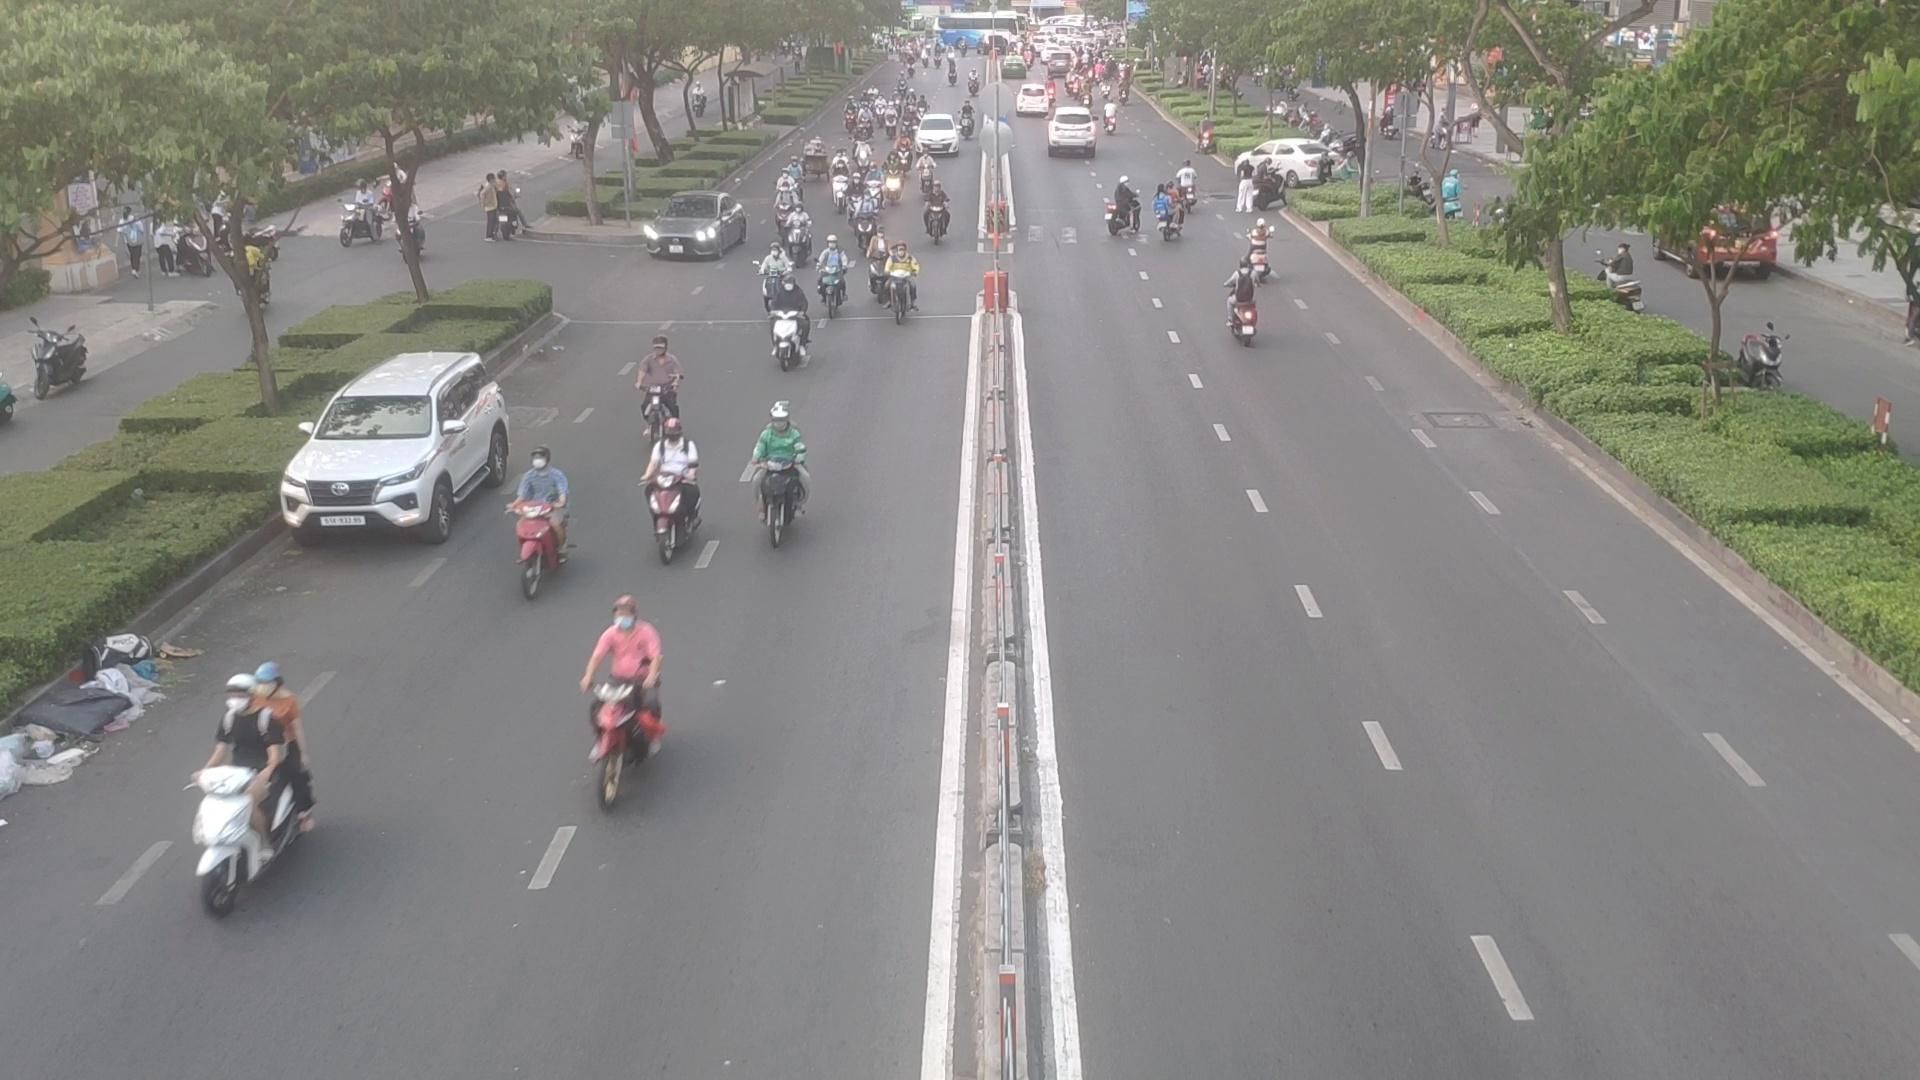car: (281, 353, 516, 545), (638, 193, 749, 262), (1226, 140, 1360, 196), (1044, 107, 1095, 156), (916, 115, 967, 157)
motorbike: (171, 665, 307, 916), (574, 603, 674, 837), (752, 400, 818, 539), (647, 419, 713, 558), (510, 450, 564, 582), (640, 328, 692, 458), (1222, 258, 1261, 342), (774, 276, 810, 363), (884, 247, 919, 327), (1238, 220, 1276, 293), (822, 231, 847, 320), (756, 240, 787, 306), (1105, 177, 1137, 239), (1159, 179, 1184, 239), (924, 178, 944, 249), (866, 231, 887, 297), (855, 194, 874, 253), (774, 189, 794, 239), (829, 161, 848, 208), (790, 208, 803, 266), (1180, 161, 1197, 203), (866, 165, 884, 206), (848, 175, 862, 220), (887, 152, 901, 198), (853, 137, 869, 175), (920, 152, 934, 194), (898, 135, 911, 170)
